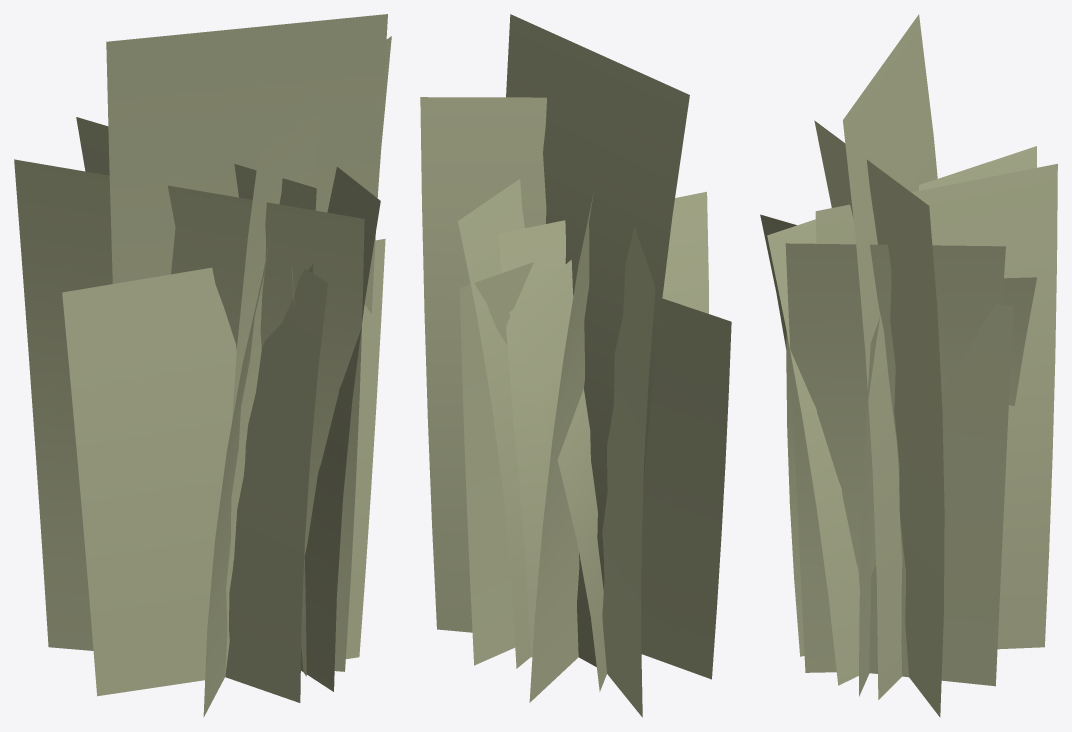
File: reed0.glb
3 renders of one model, left to right at view 1: azimuth 30°, elevation 25°; view 2: azimuth 150°, elevation 25°; view 3: azimuth 270°, elevation 25°, orthographic. The views are drawn at different scales.
Parts seen in each view (by area): view 1: reed0; view 2: reed0; view 3: reed0.
Boxes of the visible parts, x1=… form: reed0: x1=14, y1=14, x2=391, y2=717; reed0: x1=420, y1=14, x2=731, y2=717; reed0: x1=760, y1=14, x2=1057, y2=717.
Size of the model in its own units: 0.8925 by 1.64 by 0.7538.
